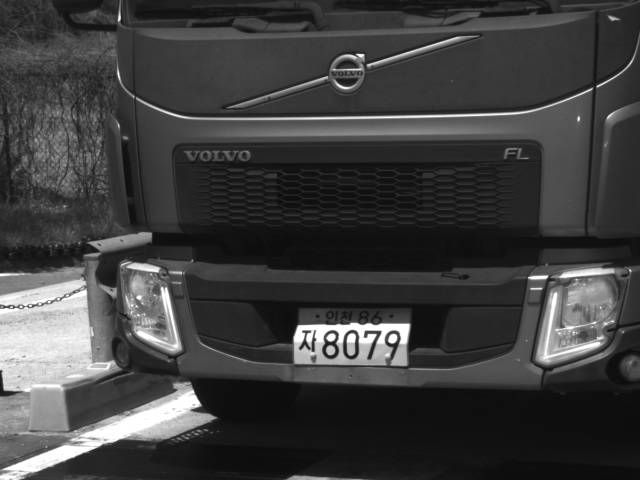car: (103, 1, 635, 418)
plate: (291, 305, 414, 367)
